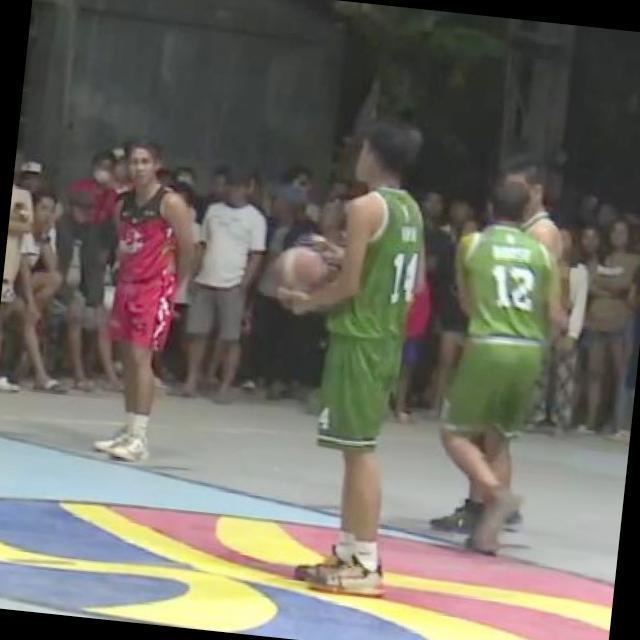ball: (252, 236, 337, 321)
